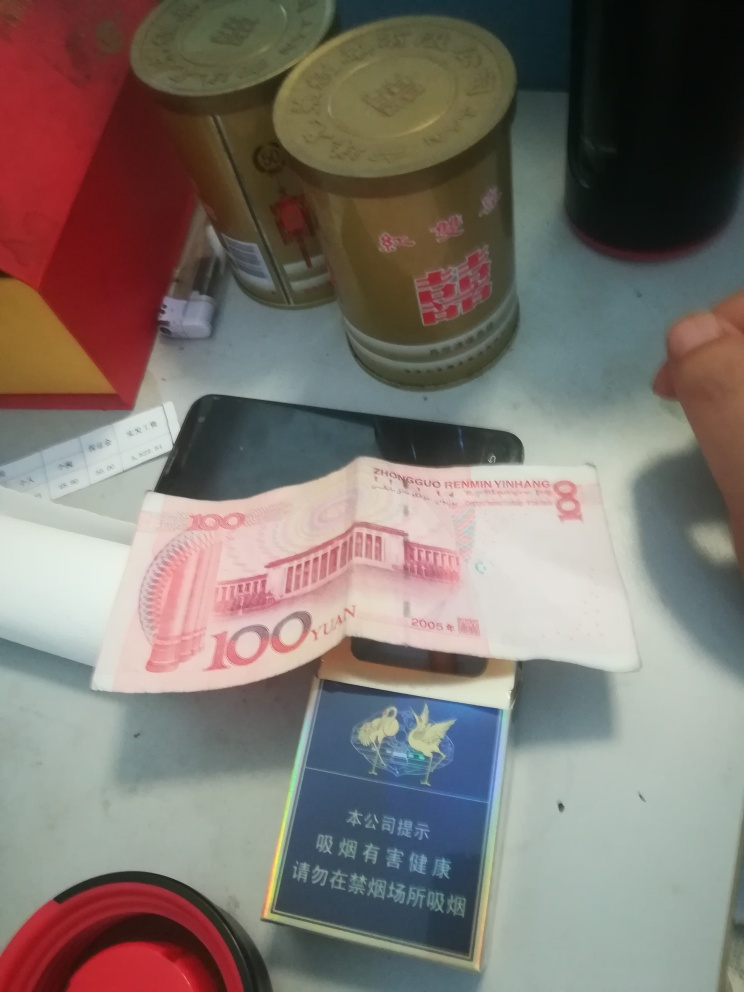rmb: (94, 457, 650, 696)
